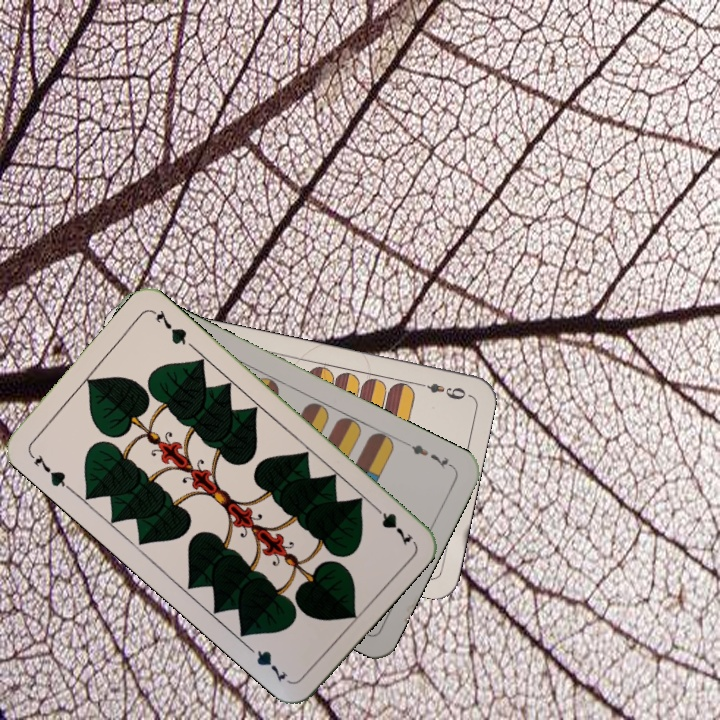E7: (401, 437, 456, 471)
E9: (413, 378, 469, 403)
G7: (367, 499, 416, 548), (25, 448, 73, 493)
